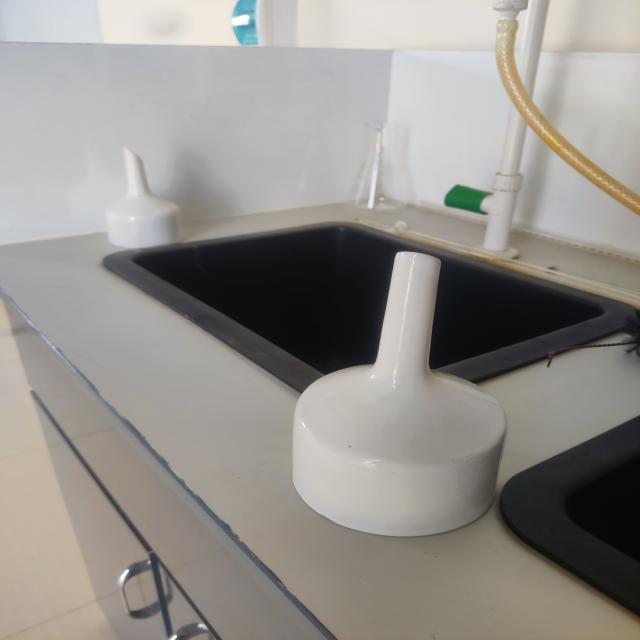Buchner_Funnel: (244, 224, 546, 545), (85, 128, 214, 271)
